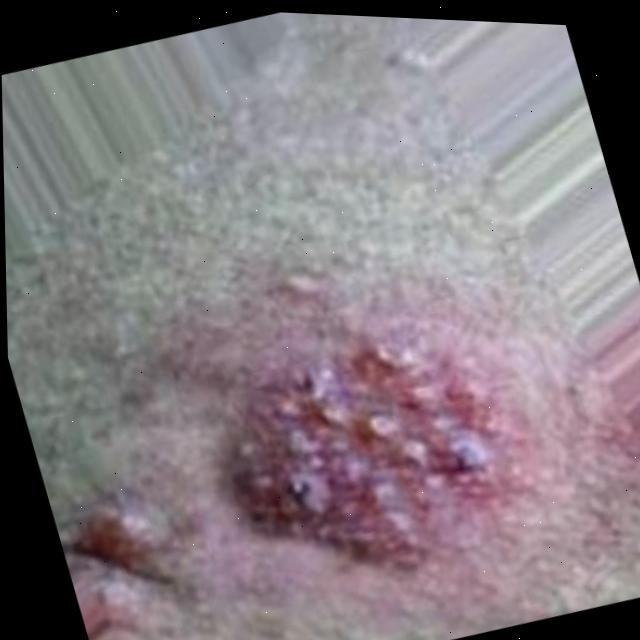Shingles: (208, 322, 512, 585)
